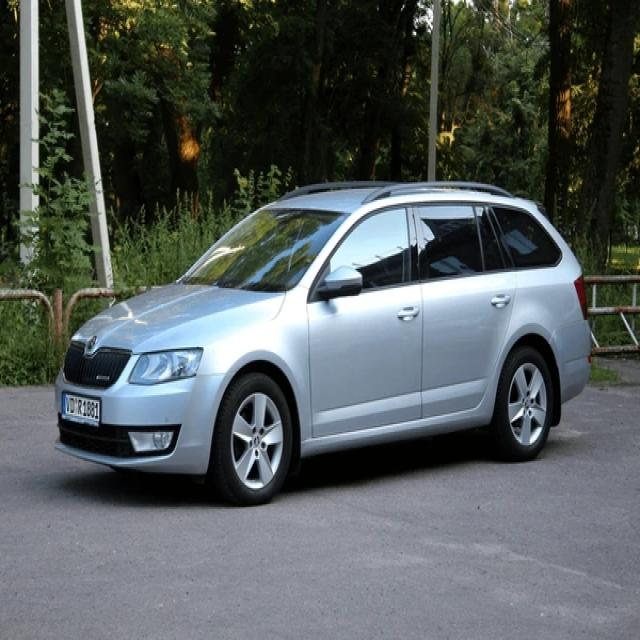skoda: (84, 333, 102, 352)
